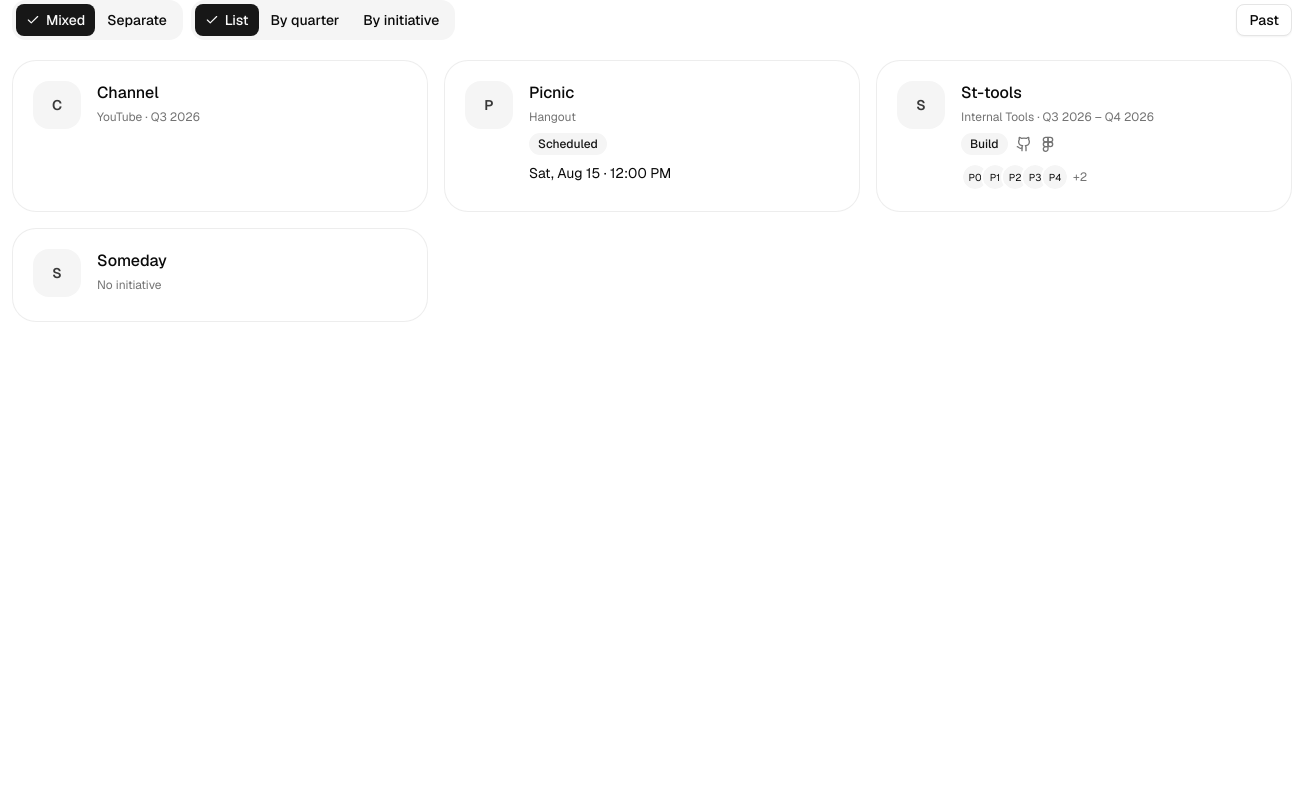
Scenario: ProjectOverview › files a locked-in hangout under its quarter
The width and height of the screenshot is (1304, 800).
Click the button "By quarter" at coordinates (305, 20), box x1=259 y1=4 x2=351 y2=36
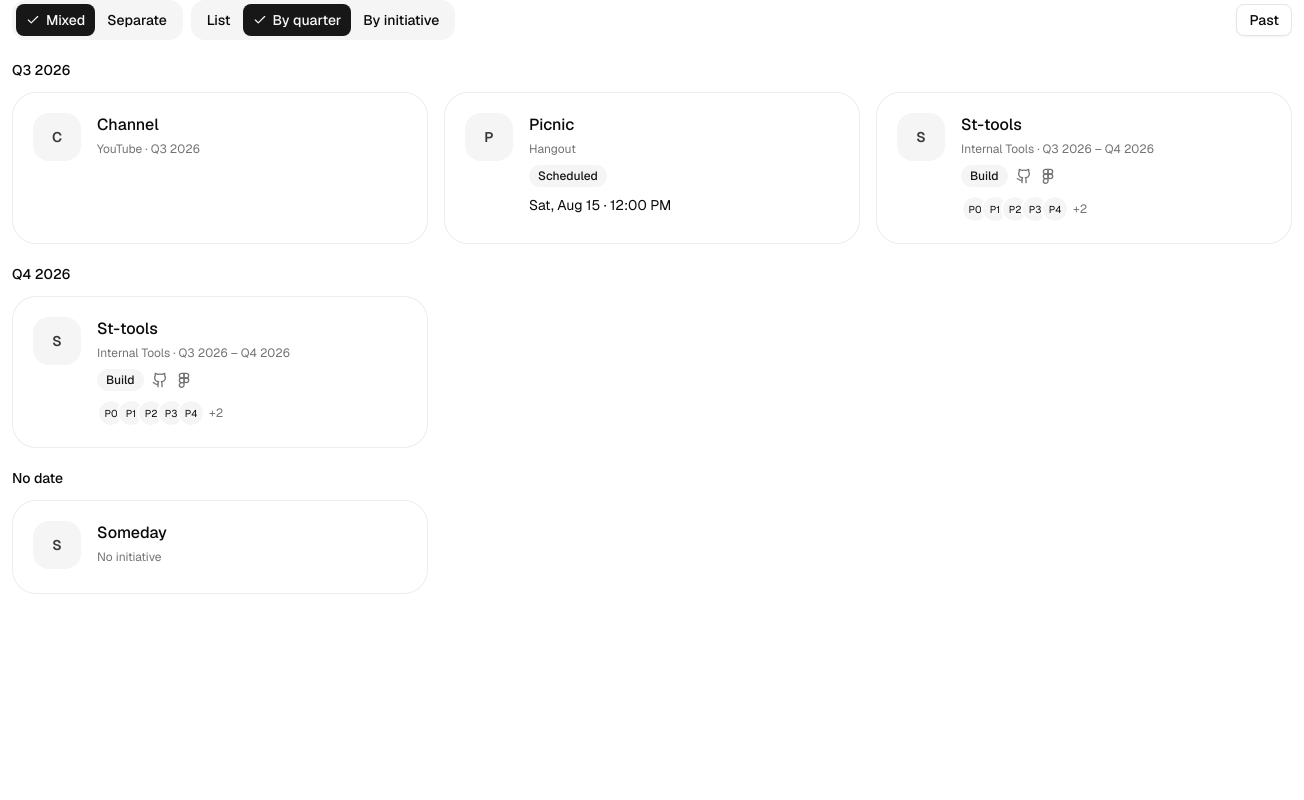
Expected: the element "Q3 2026" shows "Picnic", x1=444 y1=92 x2=860 y2=244
